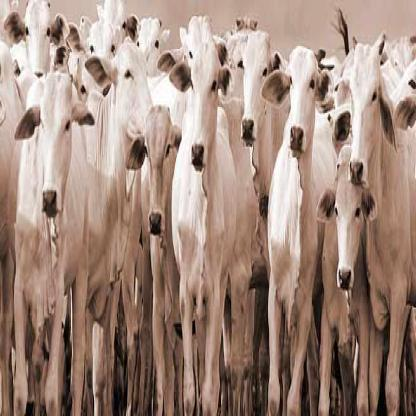cow: (337, 44, 415, 416), (15, 78, 93, 416), (261, 47, 332, 416), (87, 43, 154, 416), (171, 44, 236, 416), (317, 160, 377, 416), (128, 99, 175, 416), (231, 30, 285, 148)
